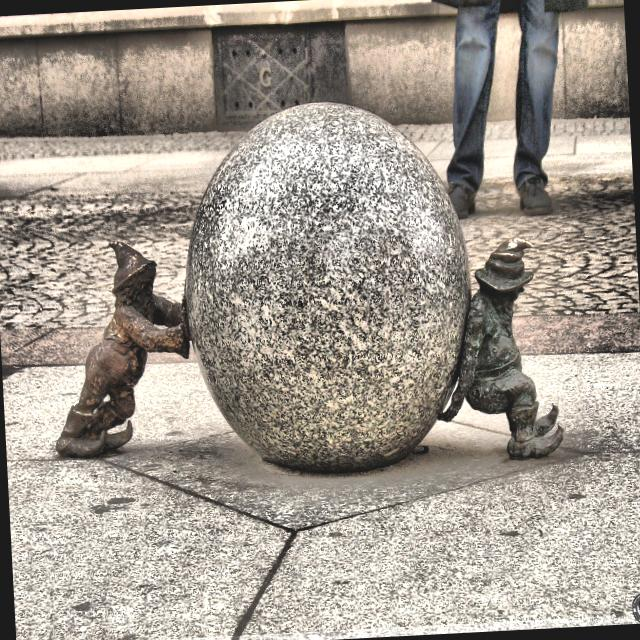Syzyfki: (45, 94, 580, 493)
